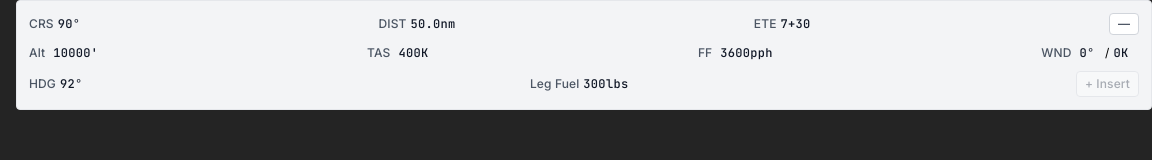
Scenario: RouteCard › Regime picker visibility › clicking picker button opens dropdown with regime names + Manual
The width and height of the screenshot is (1152, 160).
Click the button titled "Manual". click: (1124, 24)
box: [1109, 13, 1139, 35]
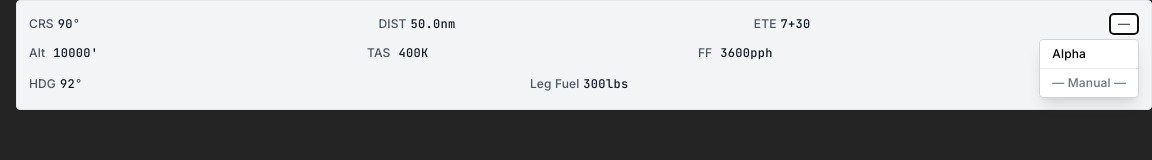
Result: the button "Alpha" is shown at [1040, 40, 1138, 68]
Result: the button "— Manual —" is shown at [1040, 68, 1138, 97]
